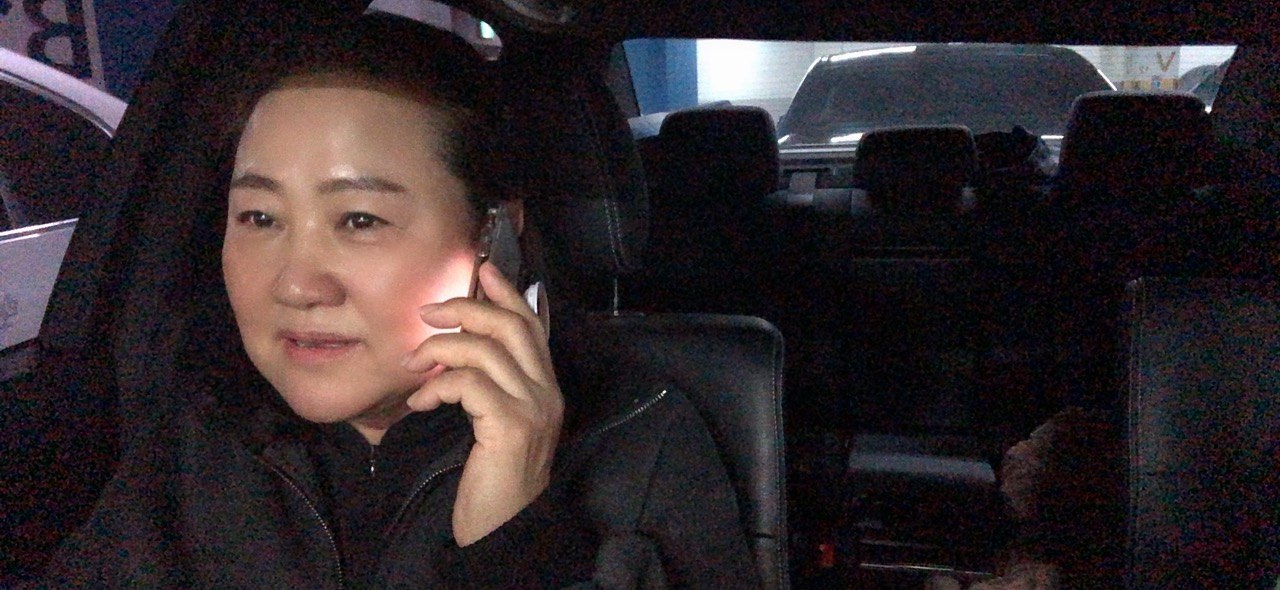phone: (11, 5, 727, 590)
